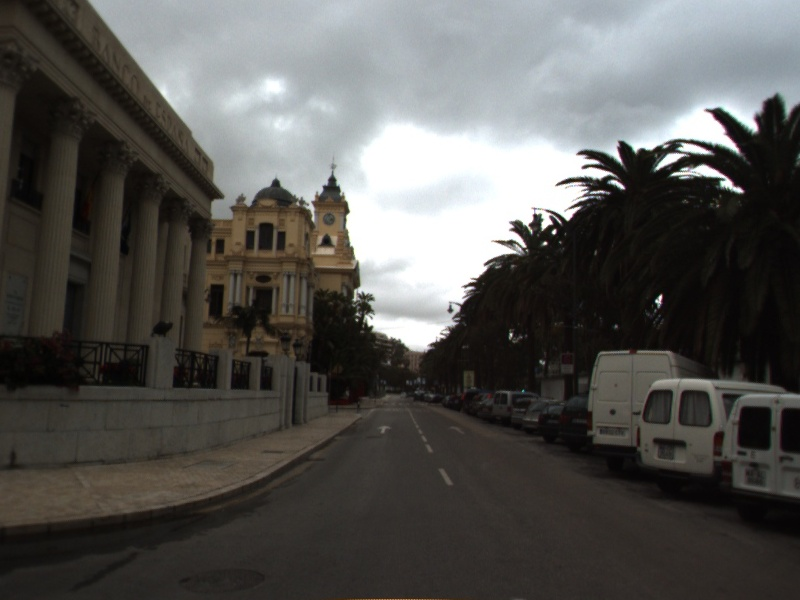STRAIGHT: (447, 424, 468, 436), (375, 424, 394, 435)
